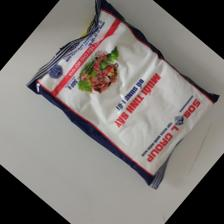Salt: (24, 2, 219, 190)
